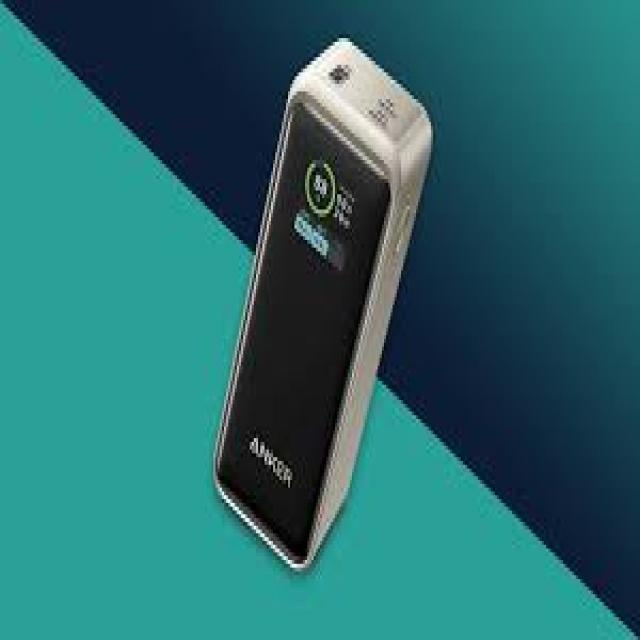power_bank: (210, 36, 438, 580)
